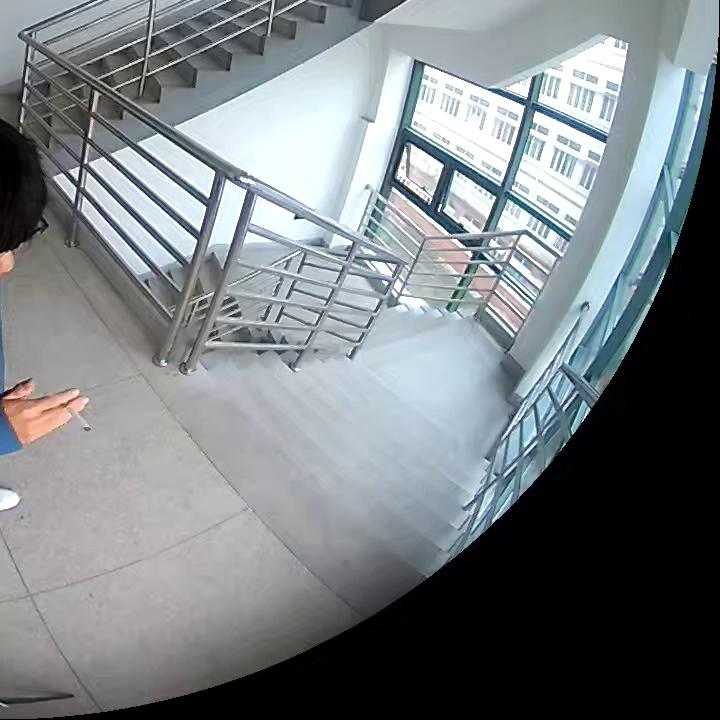handsmoke: (1, 376, 92, 445)
